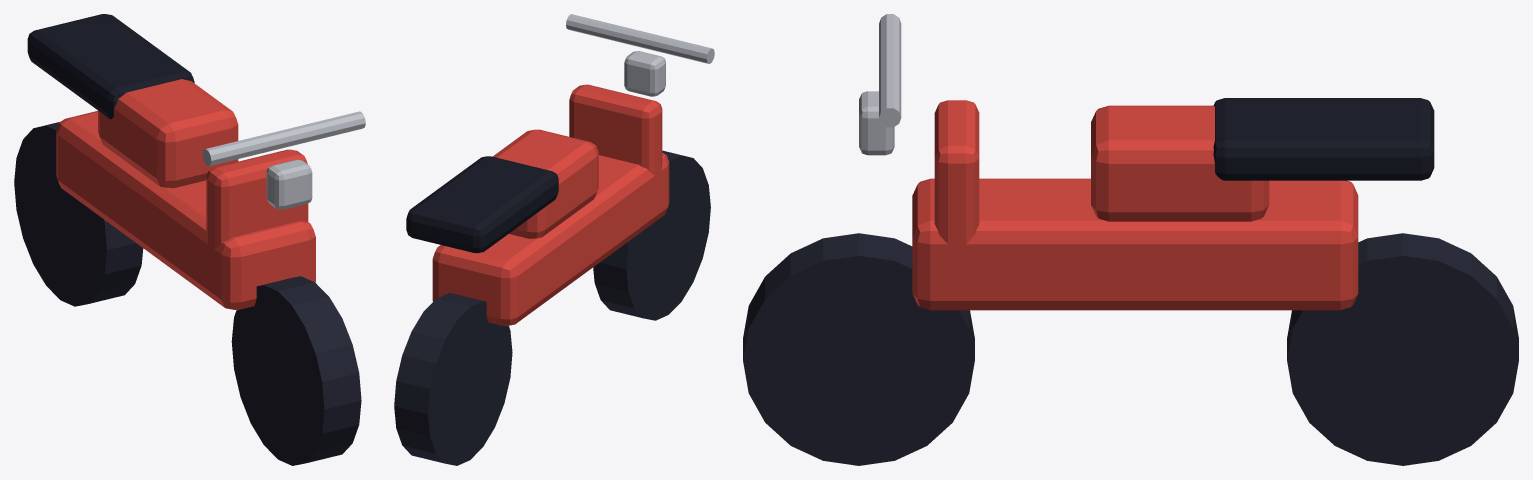
Rendered from cub.glb.
3 views of the same model, side by side, from view 1: azimuth 30°, elevation 25°; view 2: azimuth 150°, elevation 25°; view 3: azimuth 270°, elevation 25° (orthographic). The views are drawn at different scales.
Parts seen in each view (by area): view 1: cub-frame, cub-wheel-front, cub-wheel-rear, cub-tank, cub-seat, cub-leg-shield, cub-handlebar, cub-headlight; view 2: cub-frame, cub-wheel-rear, cub-wheel-front, cub-seat, cub-leg-shield, cub-tank, cub-handlebar, cub-headlight; view 3: cub-frame, cub-wheel-front, cub-wheel-rear, cub-seat, cub-tank, cub-leg-shield, cub-handlebar, cub-headlight.
Part boxes in pixels (<box>): cub-frame: <box>56,111,315,309</box>; cub-wheel-front: <box>231,276,361,465</box>; cub-wheel-rear: <box>14,122,143,306</box>; cub-tank: <box>98,79,238,188</box>; cub-seat: <box>27,14,194,119</box>; cub-leg-shield: <box>206,149,308,294</box>; cub-handlebar: <box>202,111,365,166</box>; cub-headlight: <box>266,159,312,209</box>; cub-frame: <box>432,152,669,325</box>; cub-wheel-rear: <box>394,293,512,465</box>; cub-wheel-front: <box>593,150,710,320</box>; cub-seat: <box>406,156,558,253</box>; cub-leg-shield: <box>569,84,662,175</box>; cub-tank: <box>493,129,598,238</box>; cub-handlebar: <box>566,14,714,63</box>; cub-headlight: <box>624,51,665,96</box>; cub-frame: <box>912,178,1358,310</box>; cub-wheel-front: <box>743,233,974,465</box>; cub-wheel-rear: <box>1287,233,1518,465</box>; cub-seat: <box>1213,98,1434,180</box>; cub-tank: <box>1091,105,1269,221</box>; cub-leg-shield: <box>934,100,979,299</box>; cub-handlebar: <box>879,14,901,127</box>; cub-headlight: <box>859,91,894,155</box>.
Bounding box in the file's own units: 0.5 × 0.9738 × 1.74.
